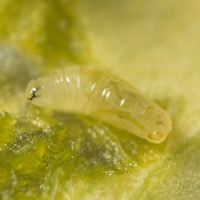insect: (27, 66, 172, 142), (28, 87, 36, 99)
